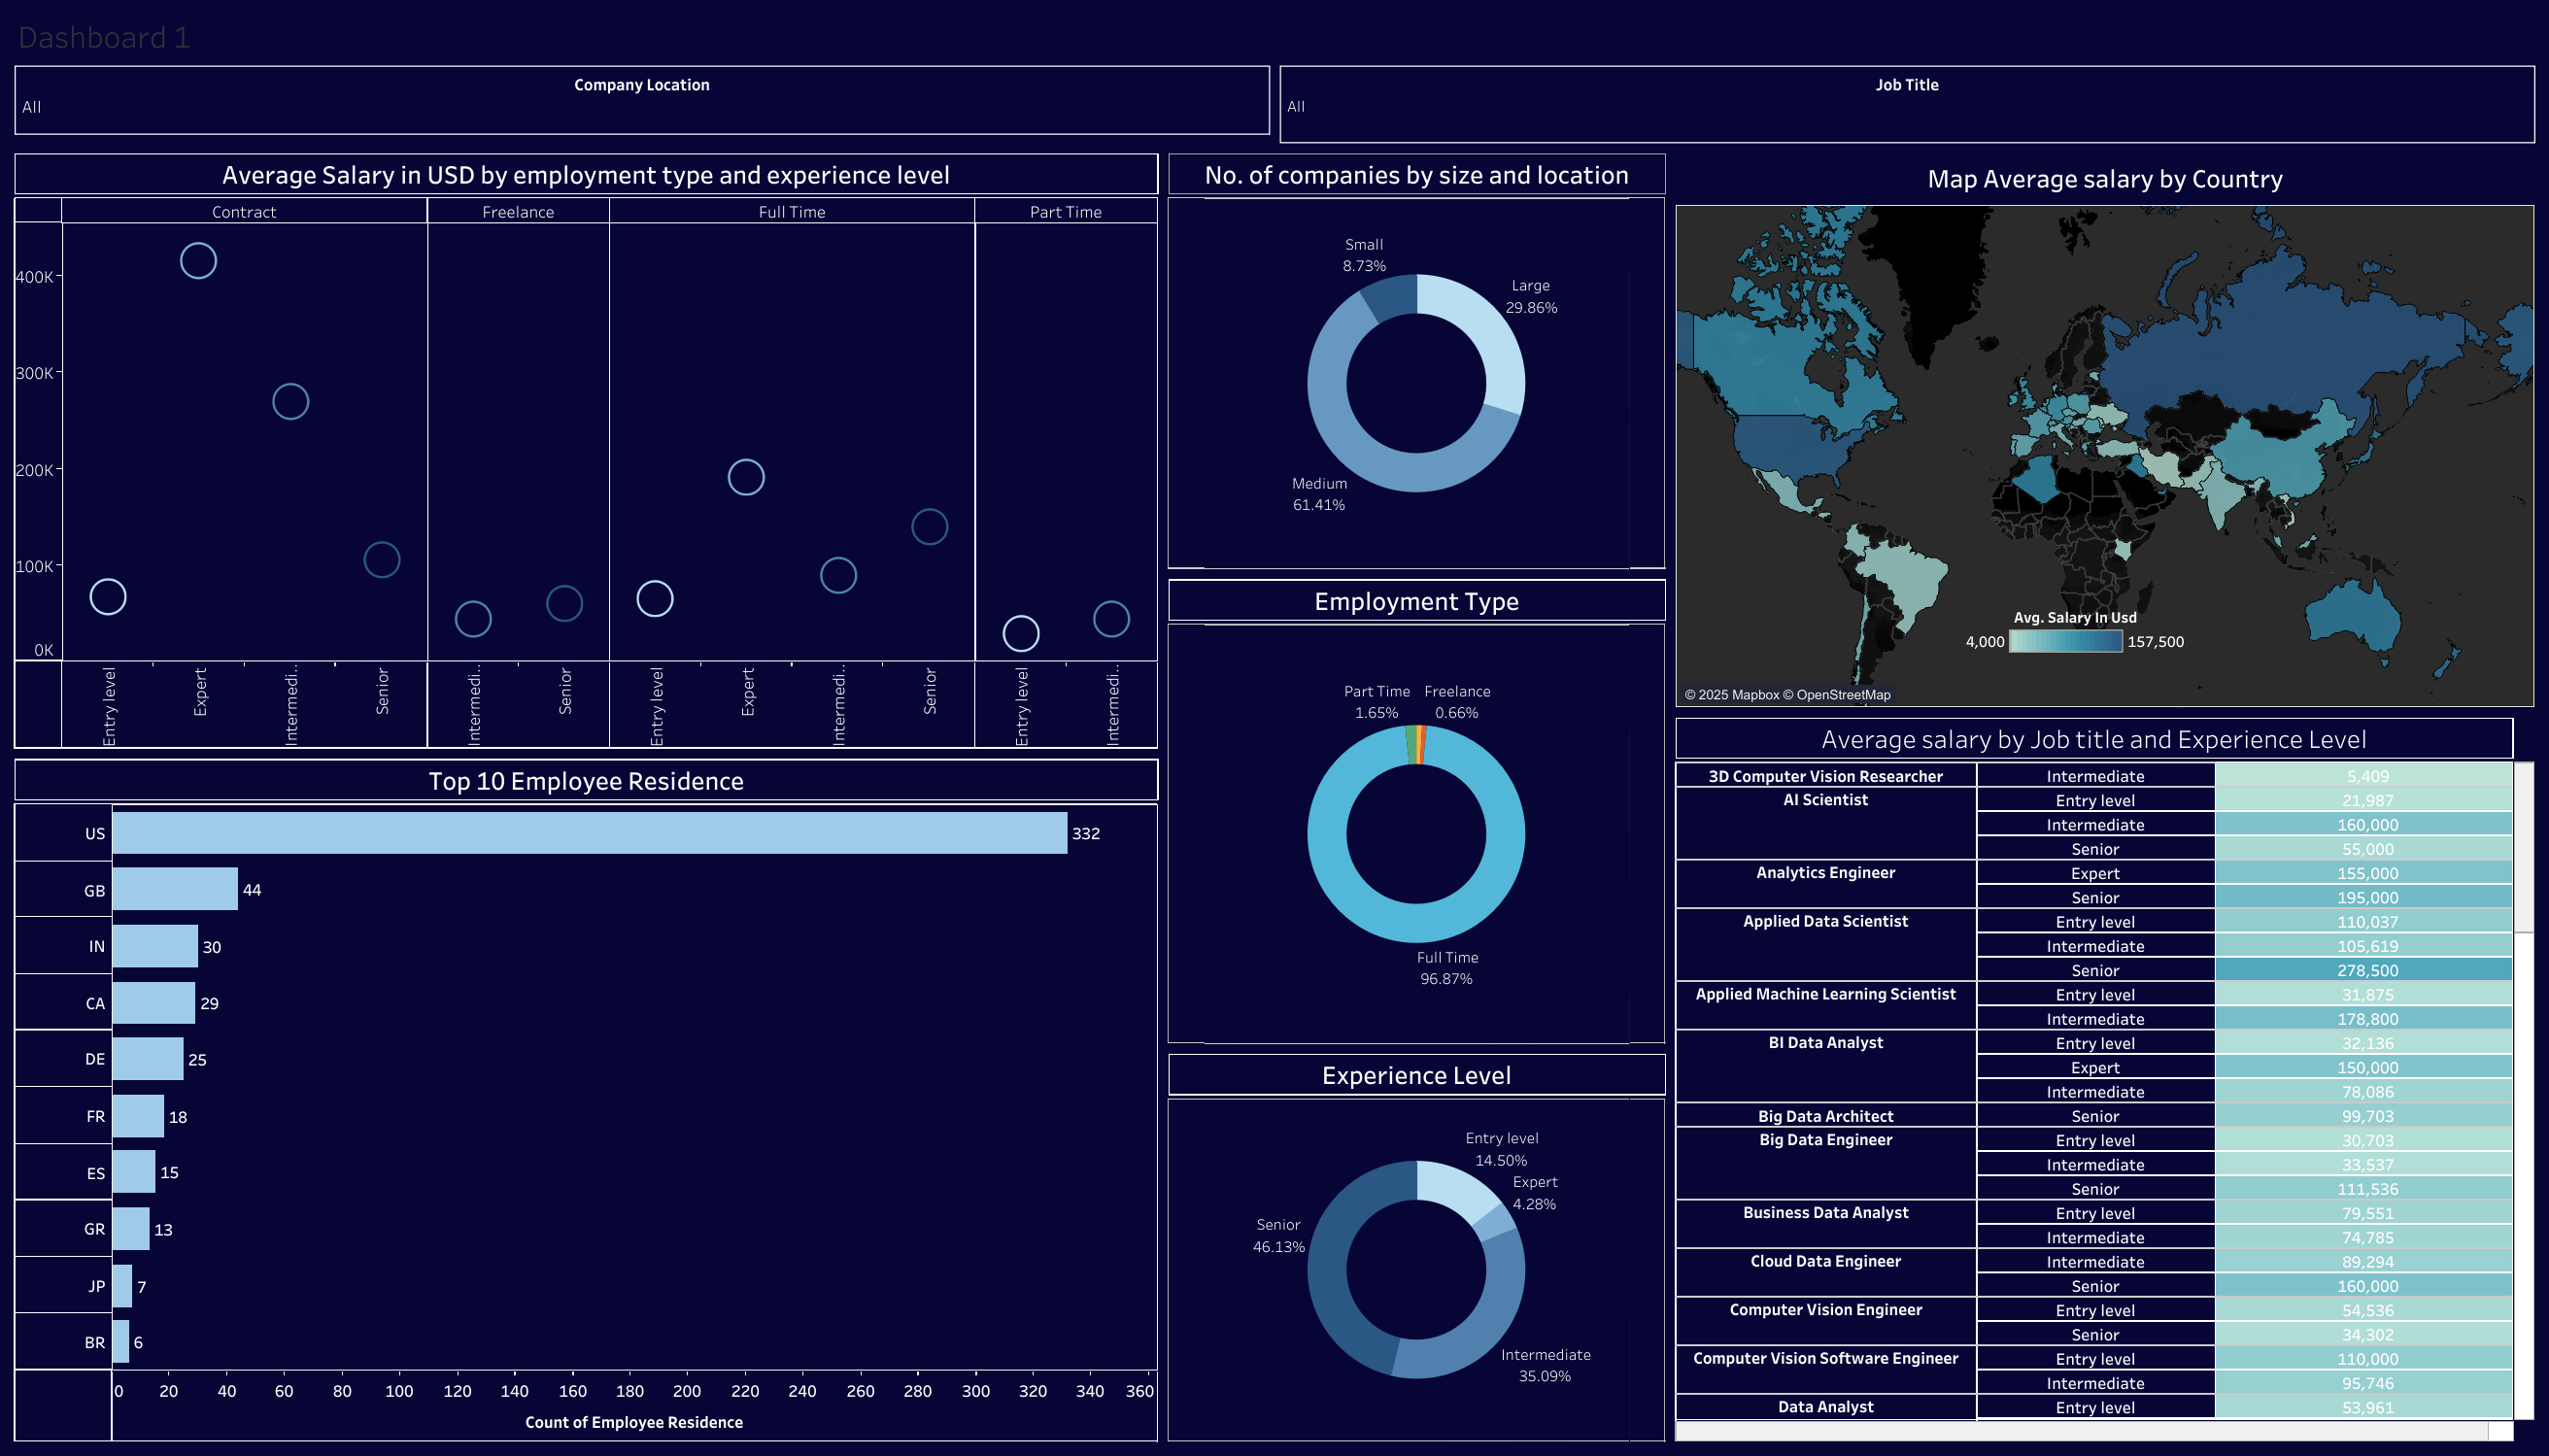

What the dashboard file says about the page in this screenshot:
{"tool":"tableau","page":{"name":"Dashboard 1","canvas":[2100,1200],"ordinal":0},"visuals":[{"type":"filter","title":"Average salary by Job title and Experience Level","param":"[federated.1ikbnhl0xbfrj614ixokp11k3lsm].[none:company_location:nk]","box":[8,8,1042,71]},{"type":"filter","title":"Map average salary by country","param":"[federated.1ikbnhl0xbfrj614ixokp11k3lsm].[none:job_title:nk]","box":[1050,8,1042,75]},{"type":"worksheet","title":"Average Salary in USD by employment type and experience level","mark":"Shape","rows":["salary_in_usd"],"cols":["employment_type","experience_level"],"box":[8,83,950,517]},{"type":"worksheet","title":"No. of companies by size and location","mark":"Pie","rows":["Calculation_917889930887860225","Calculation_917889930888118275"],"box":[958,83,418,364]},{"type":"worksheet","title":"Map average salary by country","mark":"Multipolygon","box":[1376,83,716,482]},{"type":"worksheet","title":"Employment type","mark":"Pie","rows":["Calculation_917889930887860225","Calculation_917889930888118275"],"box":[958,447,418,405]},{"type":"legend","title":"Map average salary by country","param":"[federated.1ikbnhl0xbfrj614ixokp11k3lsm].[avg:salary_in_usd:qk]","box":[1615,495,189,88]},{"type":"worksheet","title":"Average salary by Job title and Experience Level","mark":"Square","rows":["job_title","experience_level"],"box":[1376,565,716,627]},{"type":"worksheet","title":"Top 10 Employee Rsidence","mark":"Automatic","rows":["employee_residence"],"cols":["employee_residence"],"box":[8,600,950,592]},{"type":"worksheet","title":"Experience Level","mark":"Pie","rows":["Calculation_917889930887860225","Calculation_917889930888118275"],"box":[958,852,418,340]}]}

Visuals, with their boxes in screenshot pixels (x1, y1, x2, y2), scaled from the page's 2100x1200 canvas onto the 2549x1456 screenshot:
"Average salary by Job title and Experience Level" filter: [10,10,1274,96]
"Map average salary by country" filter: [1274,10,2539,101]
"Average Salary in USD by employment type and experience level" worksheet (Shape marks): [10,101,1163,728]
"No. of companies by size and location" worksheet (Pie marks): [1163,101,1670,542]
"Map average salary by country" worksheet (Multipolygon marks): [1670,101,2539,686]
"Employment type" worksheet (Pie marks): [1163,542,1670,1033]
"Map average salary by country" legend: [1960,600,2190,707]
"Average salary by Job title and Experience Level" worksheet (Square marks): [1670,686,2539,1446]
"Top 10 Employee Rsidence" worksheet: [10,728,1163,1446]
"Experience Level" worksheet (Pie marks): [1163,1033,1670,1446]
